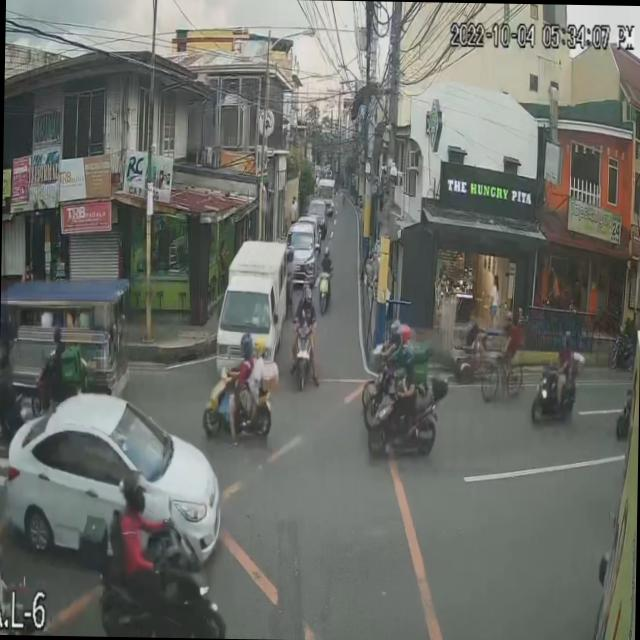full: (118, 466, 149, 515)
half: (238, 332, 254, 359), (396, 322, 412, 344), (254, 338, 268, 359)
